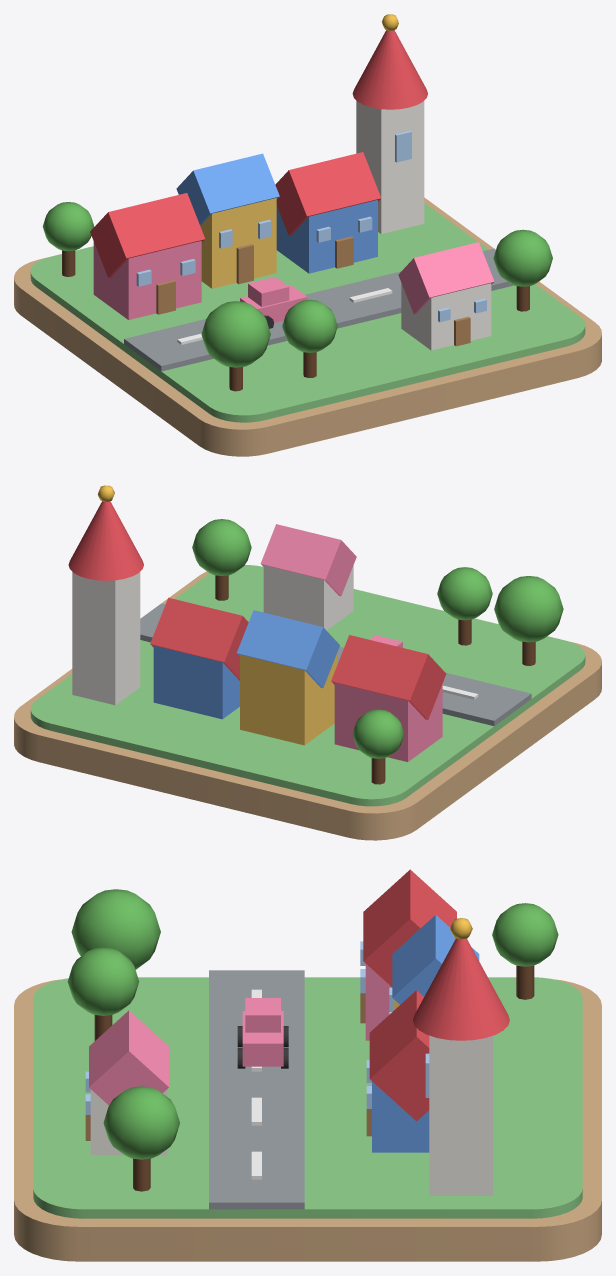
File: album_spielzeugstadt.glb
The picture shows the model from 3 angles, top to bottom: view 1: azimuth 30°, elevation 25°; view 2: azimuth 150°, elevation 25°; view 3: azimuth 270°, elevation 25°; orthographic projection. The views are drawn at different scales.
Visible parts, largest first — view 1: album_spielzeugstadt; view 2: album_spielzeugstadt; view 3: album_spielzeugstadt.
Boxes of the visible parts, left/top/right/bottom form: album_spielzeugstadt: left=14, top=14, right=601, bottom=456; album_spielzeugstadt: left=14, top=485, right=601, bottom=840; album_spielzeugstadt: left=14, top=869, right=601, bottom=1261.
Bounding box in the file's own units: 0.92 × 0.532 × 0.92.
